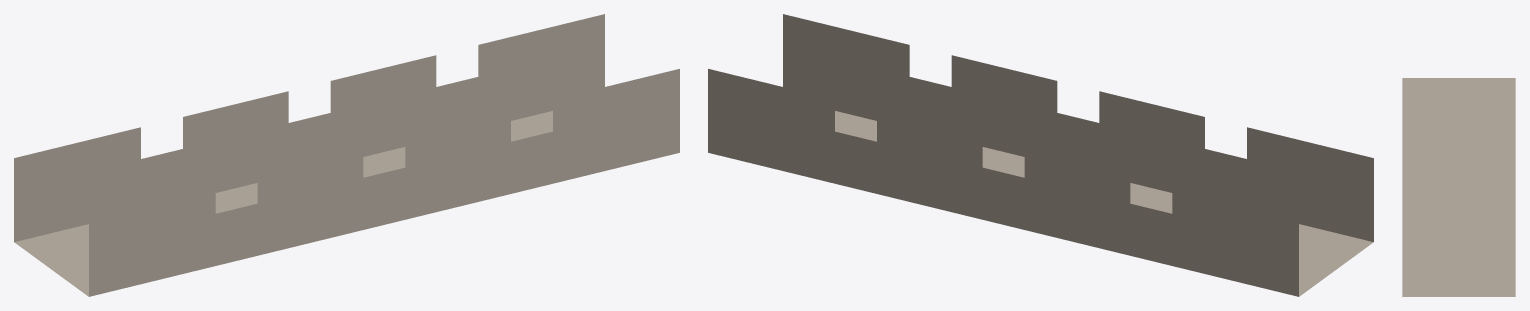
Rendered from VigaTecho.fbx.
3 renders of one model, left to right at view 1: azimuth 30°, elevation 25°; view 2: azimuth 150°, elevation 25°; view 3: azimuth 270°, elevation 25°, orthographic. The views are drawn at different scales.
Parts seen in each view (by area): view 1: VigaTecho; view 2: VigaTecho; view 3: VigaTecho.
Part boxes in pixels (x1,y1,x2,y2): VigaTecho: (14,14,679,296); VigaTecho: (708,14,1373,296); VigaTecho: (1402,78,1515,296).
Bounding box in the file's own units: 726 × 98.65 × 159.
